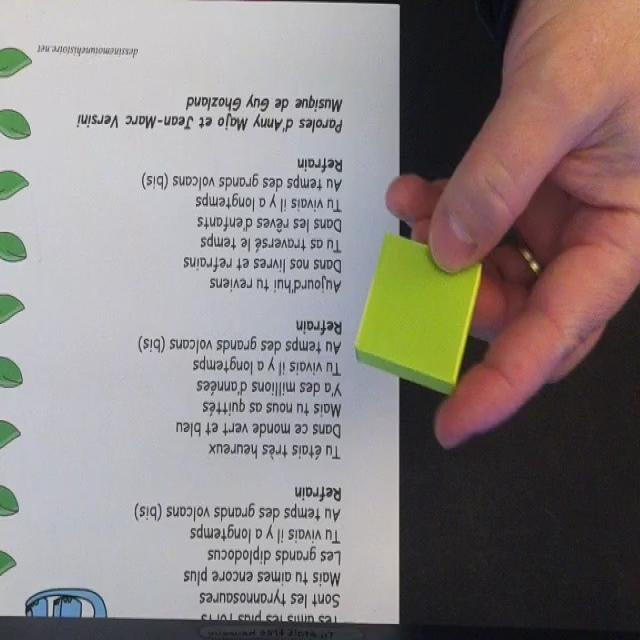square: (354, 231, 482, 396)
